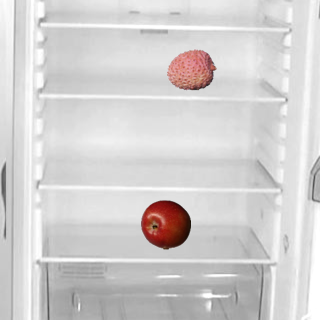Apple Braeburn: (140, 199, 190, 249)
Lychee: (166, 44, 216, 94)
